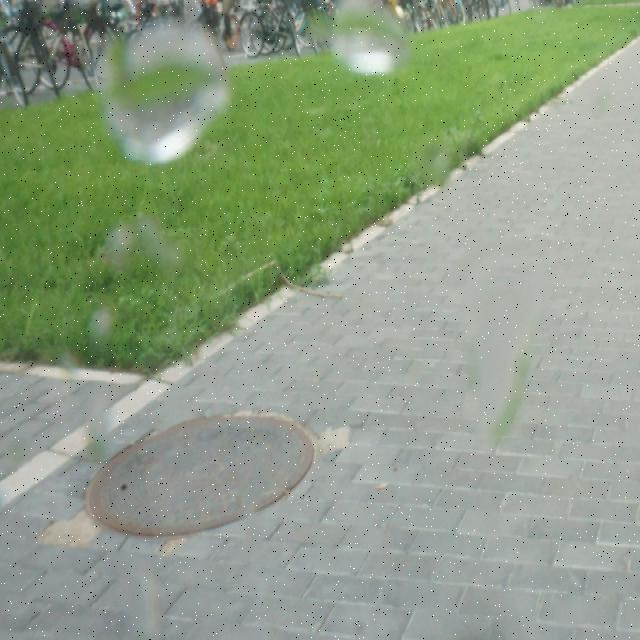raindrop: (91, 21, 234, 166), (457, 244, 543, 456), (330, 0, 415, 79), (57, 351, 112, 463), (122, 539, 168, 638), (140, 200, 190, 271), (97, 222, 133, 274), (85, 302, 119, 342)
